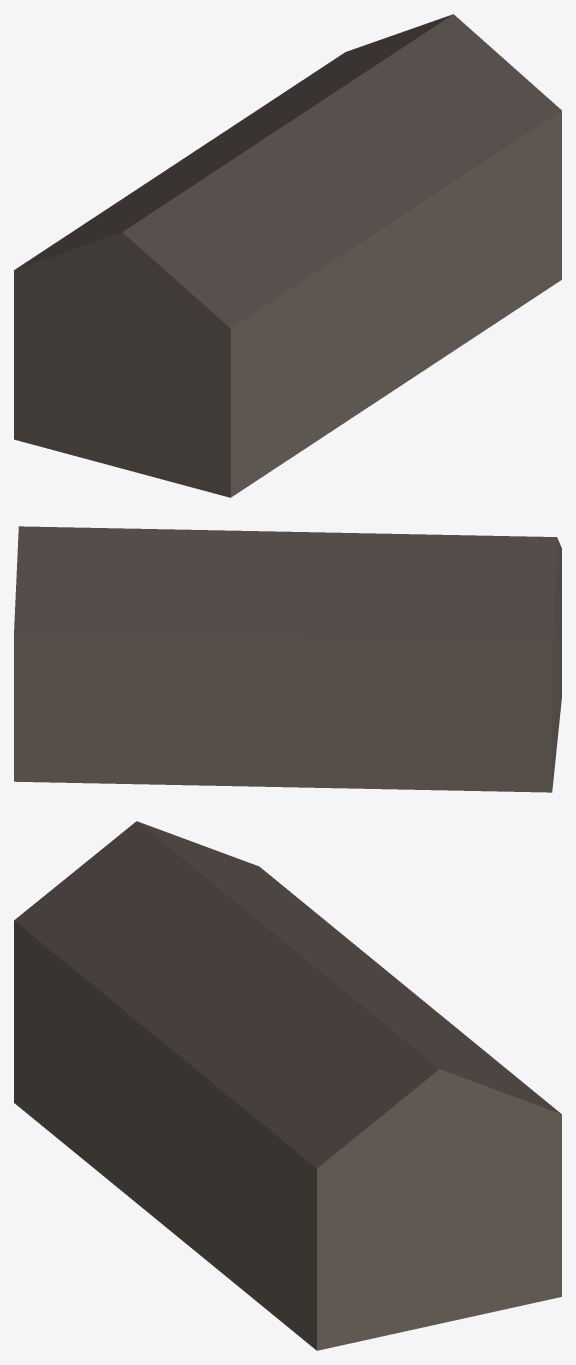
The picture shows the model from 3 angles, top to bottom: view 1: azimuth 30°, elevation 25°; view 2: azimuth 150°, elevation 25°; view 3: azimuth 270°, elevation 25°; orthographic projection. The views are drawn at different scales.
Visible parts, largest first — view 1: HP-w859082516; view 2: HP-w859082516; view 3: HP-w859082516.
Boxes of the visible parts, bbox=[...] form: HP-w859082516: bbox=[14, 14, 561, 497]; HP-w859082516: bbox=[14, 526, 561, 792]; HP-w859082516: bbox=[14, 821, 561, 1350].
Bounding box in the file's own units: 21.32 × 8.38 × 16.34.
